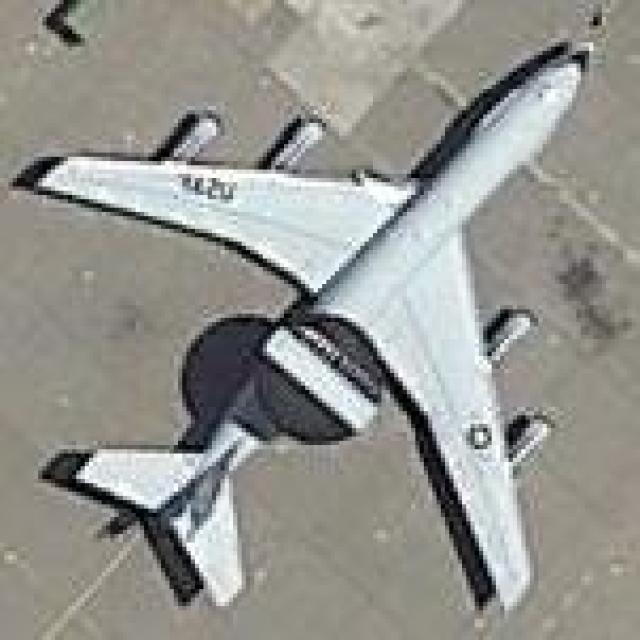E-3_TopDown: (4, 29, 598, 618)
